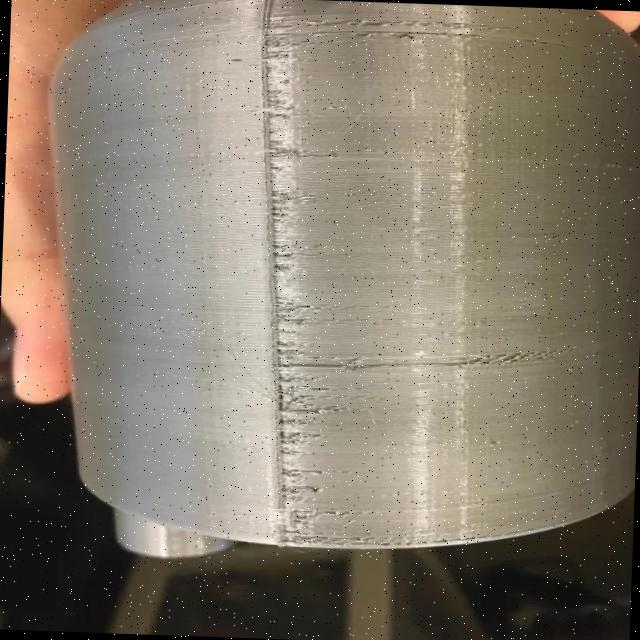cracks: (237, 0, 568, 558)
